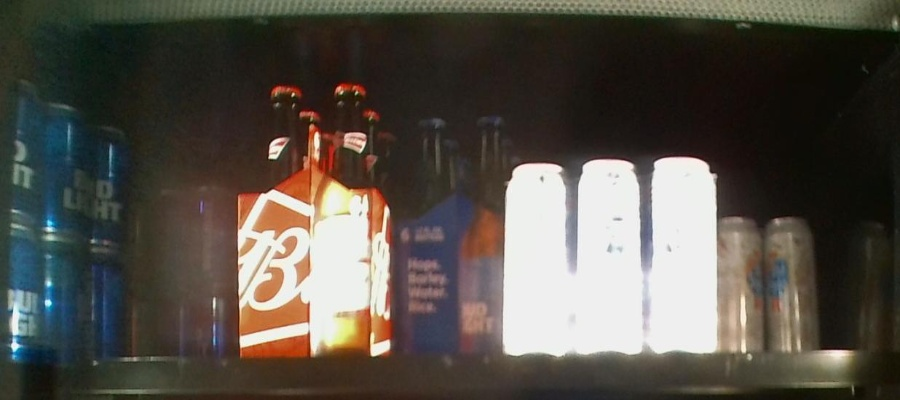bottle: (238, 89, 395, 358), (501, 161, 719, 354), (1, 101, 125, 358), (398, 108, 502, 354), (719, 212, 823, 351), (151, 182, 229, 359)
